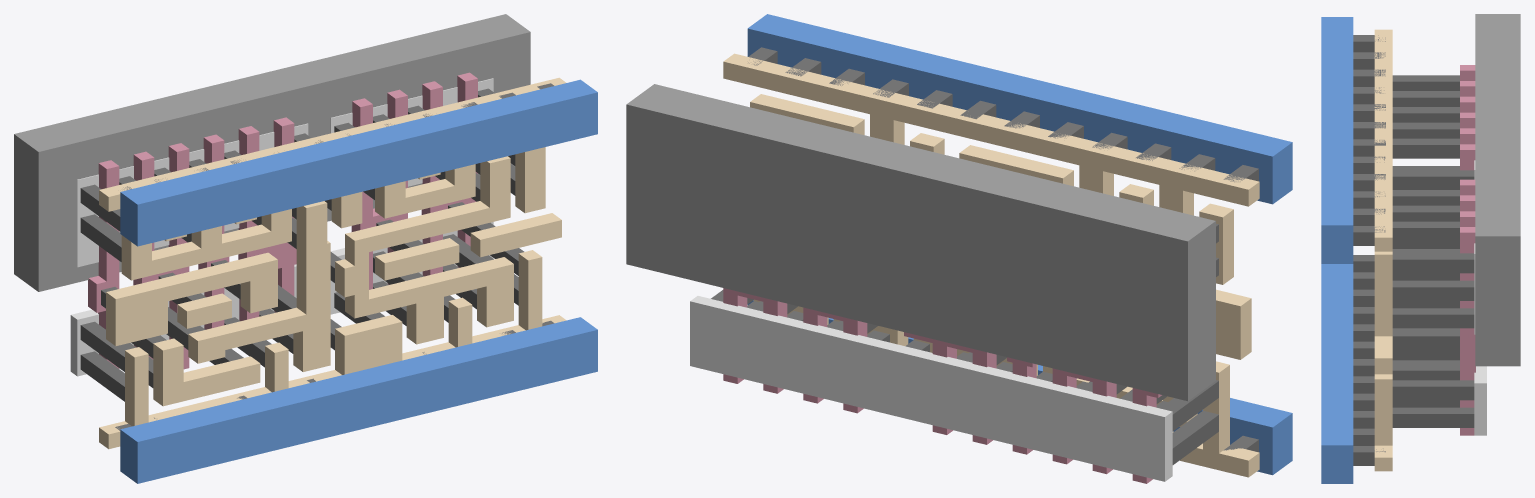
File: sky130_fd_sc_hd__a2bb2oi_2.gds.gltf
The picture shows the model from 3 angles, left to right: view 1: azimuth 30°, elevation 25°; view 2: azimuth 150°, elevation 25°; view 3: azimuth 270°, elevation 25°; orthographic projection. The views are drawn at different scales.
Visible parts, largest first — view 1: sky130_fd_sc_hd__a2bb2oi_2_li1, sky130_fd_sc_hd__a2bb2oi_2_met1, sky130_fd_sc_hd__a2bb2oi_2_nwell, sky130_fd_sc_hd__a2bb2oi_2_licon, sky130_fd_sc_hd__a2bb2oi_2_poly, sky130_fd_sc_hd__a2bb2oi_2_diff; view 2: sky130_fd_sc_hd__a2bb2oi_2_nwell, sky130_fd_sc_hd__a2bb2oi_2_diff, sky130_fd_sc_hd__a2bb2oi_2_li1, sky130_fd_sc_hd__a2bb2oi_2_met1, sky130_fd_sc_hd__a2bb2oi_2_poly, sky130_fd_sc_hd__a2bb2oi_2_mcon, sky130_fd_sc_hd__a2bb2oi_2_licon; view 3: sky130_fd_sc_hd__a2bb2oi_2_licon, sky130_fd_sc_hd__a2bb2oi_2_nwell, sky130_fd_sc_hd__a2bb2oi_2_met1, sky130_fd_sc_hd__a2bb2oi_2_mcon, sky130_fd_sc_hd__a2bb2oi_2_li1, sky130_fd_sc_hd__a2bb2oi_2_poly, sky130_fd_sc_hd__a2bb2oi_2_diff.
Boxes of the visible parts, x1=… form: sky130_fd_sc_hd__a2bb2oi_2_li1: x1=99, y1=77, x2=566, y2=449; sky130_fd_sc_hd__a2bb2oi_2_met1: x1=120, y1=79, x2=597, y2=483; sky130_fd_sc_hd__a2bb2oi_2_nwell: x1=14, y1=14, x2=530, y2=291; sky130_fd_sc_hd__a2bb2oi_2_licon: x1=80, y1=88, x2=524, y2=401; sky130_fd_sc_hd__a2bb2oi_2_poly: x1=88, y1=72, x2=477, y2=369; sky130_fd_sc_hd__a2bb2oi_2_diff: x1=70, y1=78, x2=493, y2=376; sky130_fd_sc_hd__a2bb2oi_2_nwell: x1=626, y1=84, x2=1215, y2=401; sky130_fd_sc_hd__a2bb2oi_2_diff: x1=690, y1=296, x2=1172, y2=481; sky130_fd_sc_hd__a2bb2oi_2_li1: x1=723, y1=53, x2=1259, y2=477; sky130_fd_sc_hd__a2bb2oi_2_met1: x1=747, y1=14, x2=1292, y2=475; sky130_fd_sc_hd__a2bb2oi_2_poly: x1=723, y1=288, x2=1161, y2=483; sky130_fd_sc_hd__a2bb2oi_2_mcon: x1=748, y1=47, x2=1258, y2=452; sky130_fd_sc_hd__a2bb2oi_2_licon: x1=711, y1=223, x2=1218, y2=464; sky130_fd_sc_hd__a2bb2oi_2_licon: x1=1392, y1=75, x2=1474, y2=427; sky130_fd_sc_hd__a2bb2oi_2_nwell: x1=1475, y1=14, x2=1520, y2=366; sky130_fd_sc_hd__a2bb2oi_2_met1: x1=1321, y1=17, x2=1353, y2=483; sky130_fd_sc_hd__a2bb2oi_2_mcon: x1=1353, y1=35, x2=1385, y2=465; sky130_fd_sc_hd__a2bb2oi_2_li1: x1=1374, y1=29, x2=1392, y2=471; sky130_fd_sc_hd__a2bb2oi_2_poly: x1=1460, y1=65, x2=1475, y2=435; sky130_fd_sc_hd__a2bb2oi_2_diff: x1=1474, y1=160, x2=1486, y2=435.
Size of the model in its own units: 5.9 by 3.2 by 2.24.
